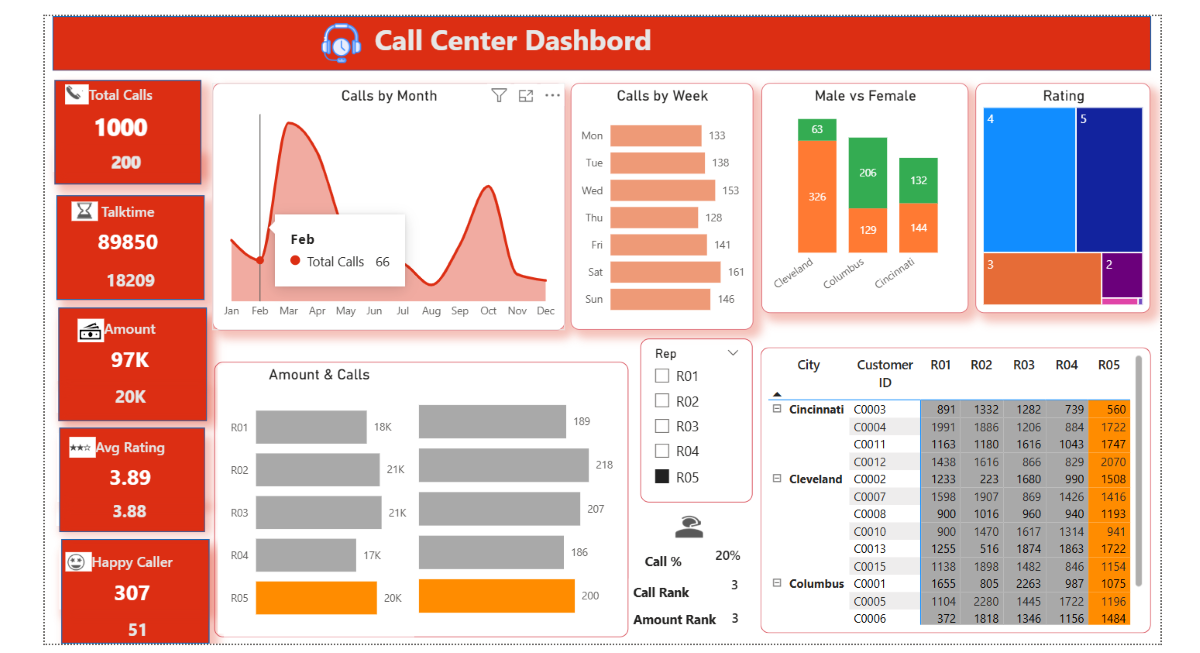

This screenshot's page, from the dashboard's own definition file:
{"tool":"powerbi","page":{"name":"Summery","canvas":[1280,720],"ordinal":0},"visuals":[{"type":"shape","box":[9.3,0,1260.5,62.8],"z":0},{"type":"shape","box":[10.8,73.6,168.5,119.7],"z":0,"group":"g1"},{"type":"shape","box":[12.8,206.1,170,120],"z":0,"group":"g2"},{"type":"shape","box":[14.5,334.1,170.4,130.2],"z":0,"group":"g3"},{"type":"shape","box":[194.2,396.5,475.6,316.3],"z":0,"group":"g6"},{"type":"shape","box":[15.6,472.1,167,119.8],"z":0,"group":"g4"},{"type":"shape","box":[18.8,600,170,120],"z":0,"group":"g5"},{"type":"textbox","box":[373.2,0,528.3,63.1],"z":1000},{"type":"clusteredBarChart","title":"Amount & Calls","fields":{"Category":["calls.Representative"],"Y":["_measures.Amount"]},"box":[205.5,401.3,218.7,311.5],"z":1000,"group":"g6"},{"type":"group","id":"g1","title":"Group 1","box":[0,73,179.3,120.3],"z":2000},{"type":"clusteredBarChart","title":"Calls","fields":{"Category":["calls.Representative"],"Y":["_measures.Total Calls"]},"box":[424.4,433.6,237.3,258],"z":2000,"group":"g6"},{"type":"cardVisual","fields":{"Data":["_measures.Total Calls"]},"box":[0,73,177.7,75.7],"z":3000,"group":"g1"},{"type":"group","id":"g2","title":"Group 1","box":[11.8,206.1,171,120],"z":3000},{"type":"cardVisual","fields":{"Data":["_measures.Talktime"]},"box":[11.8,208.3,166.3,84.9],"z":3000,"group":"g2"},{"type":"cardVisual","fields":{"Data":["_measures.Amount"]},"box":[14.2,342.2,166.3,76.7],"z":3000,"group":"g3"},{"type":"cardVisual","fields":{"Data":["_measures.Average Rating"]},"box":[13.5,477.8,167.7,80.1],"z":3000,"group":"g4"},{"type":"cardVisual","fields":{"Data":["_measures.Happy Caller"]},"box":[15.9,610.5,169.8,70.9],"z":3000,"group":"g5"},{"type":"group","id":"g3","title":"Group 1","box":[12.8,334.1,172.1,130.2],"z":4000},{"type":"card","fields":{"Values":["_measures.repcalls"]},"box":[8.4,152.9,169.3,25.2],"z":5000,"group":"g1"},{"type":"card","fields":{"Values":["_measures.RepAvgTalktime"]},"box":[12.5,290.9,170,30],"z":5000,"group":"g2"},{"type":"card","fields":{"Values":["_measures.repAmount"]},"box":[12.8,421.9,169.8,32.6],"z":5000,"group":"g3"},{"type":"group","id":"g4","title":"Group 1","box":[12.8,472.1,169.8,119.8],"z":5000},{"type":"card","fields":{"Values":["_measures.RepAvgRate"]},"box":[12.8,554.7,167.9,30.2],"z":5000,"group":"g4"},{"type":"card","fields":{"Values":["_measures.RepJappy Caller"]},"box":[27.9,690.7,158.1,29.1],"z":5000,"group":"g5"},{"type":"group","id":"g5","title":"Group 1","box":[15.9,600,172.9,120],"z":6000},{"type":"lineChart","title":" Calls by Month","fields":{"Y":["_measures.Total Calls"],"Category":["Calender.Month"]},"box":[191.9,76.7,404.7,283.7],"z":7000},{"type":"clusteredBarChart","title":" Calls by Week","fields":{"Category":["Calender.Weekname"],"Y":["_measures.Total Calls"]},"box":[603.5,76.8,209.2,282.8],"z":8000},{"type":"slicer","fields":{"Values":["Rep Table.Value"]},"box":[683.7,369.8,129.1,188.4],"z":9000},{"type":"columnChart","title":"Male vs Female","fields":{"Category":["customers.City"],"Y":["_measures.Total Calls"],"Series":["customers.Gedner"]},"box":[822.1,76.7,237.2,264],"z":10000},{"type":"treemap","title":"Rating","fields":{"Group":["calls.Rating rounded"],"Values":["_measures.Total Calls"]},"box":[1067.4,76.7,201.2,264],"z":11000},{"type":"group","id":"g6","title":"Group 1","box":[194.2,396.5,475.6,316.3],"z":12000},{"type":"pivotTable","fields":{"Columns":["calls.Representative"],"Rows":["customers.City","calls.Customer ID"],"Values":["_measures.Amount"]},"box":[820.9,380.2,447.7,327.9],"z":13000},{"type":"image","box":[708.1,565.1,64,40.7],"z":14000},{"type":"card","fields":{"Values":["_measures.call %"]},"box":[754.4,606.7,58.9,28.9],"z":15000},{"type":"textbox","box":[683.3,610,64.4,30],"z":16000},{"type":"card","fields":{"Values":["_measures.Call Rank"]},"box":[771.1,640,41.1,28.9],"z":17000},{"type":"textbox","box":[670,645.6,91.1,30],"z":18000},{"type":"textbox","box":[670,676.7,122.2,31.1],"z":19000},{"type":"card","fields":{"Values":["_measures.AmountRank"]},"box":[777.8,677.8,28.9,30],"z":20000},{"type":"image","box":[308.1,3.2,65.2,55.7],"z":21000}]}

Visuals, with their boxes in screenshot pixels (x1, y1, x2, y2):
shape: select_region(52, 12, 1139, 67)
shape: select_region(53, 76, 198, 179)
shape: select_region(55, 190, 201, 294)
shape: select_region(56, 301, 203, 413)
shape: select_region(211, 355, 622, 628)
shape: select_region(57, 420, 201, 523)
shape: select_region(60, 530, 207, 634)
textbox: select_region(366, 12, 822, 67)
"Amount & Calls" clusteredBarChart: select_region(221, 359, 410, 628)
"Group 1" group: select_region(44, 75, 198, 179)
"Calls" clusteredBarChart: select_region(410, 387, 615, 609)
cardVisual - _measures.Total Calls: select_region(44, 75, 197, 141)
"Group 1" group: select_region(54, 190, 201, 294)
cardVisual - _measures.Talktime: select_region(54, 192, 197, 265)
cardVisual - _measures.Amount: select_region(56, 308, 199, 374)
cardVisual - _measures.Average Rating: select_region(55, 425, 200, 494)
cardVisual - _measures.Happy Caller: select_region(57, 539, 204, 600)
"Group 1" group: select_region(55, 301, 203, 413)
card - _measures.repcalls: select_region(51, 144, 197, 166)
card - _measures.RepAvgTalktime: select_region(55, 264, 201, 289)
card - _measures.repAmount: select_region(55, 377, 201, 405)
"Group 1" group: select_region(55, 420, 201, 523)
card - _measures.RepAvgRate: select_region(55, 491, 200, 517)
card - _measures.RepJappy Caller: select_region(68, 608, 204, 634)
"Group 1" group: select_region(57, 530, 207, 634)
" Calls by Month" lineChart: select_region(209, 79, 559, 323)
" Calls by Week" clusteredBarChart: select_region(564, 79, 745, 323)
slicer - Rep Table.Value: select_region(634, 332, 745, 494)
"Male vs Female" columnChart: select_region(753, 79, 958, 306)
"Rating" treemap: select_region(965, 79, 1138, 306)
"Group 1" group: select_region(211, 355, 622, 628)
pivotTable - calls.Representative x customers.City: select_region(752, 341, 1138, 623)
image: select_region(655, 500, 710, 535)
card - _measures.call %: select_region(695, 536, 746, 561)
textbox: select_region(633, 539, 689, 565)
card - _measures.Call Rank: select_region(709, 565, 745, 590)
textbox: select_region(622, 570, 700, 595)
textbox: select_region(622, 596, 727, 623)
card - _measures.AmountRank: select_region(715, 597, 740, 623)
image: select_region(310, 15, 366, 63)
